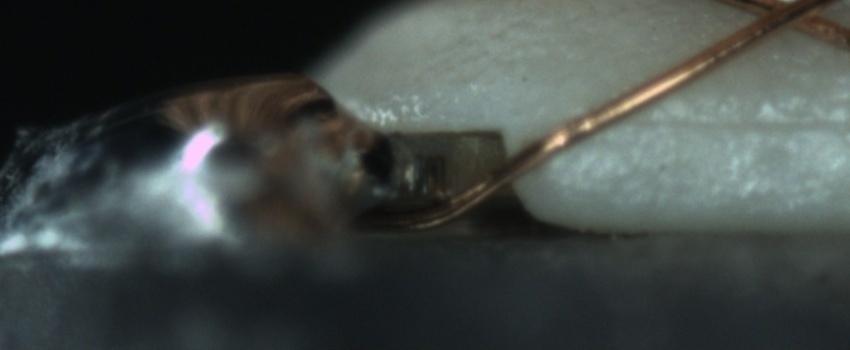CL: (748, 0, 835, 33)
DL: (617, 85, 845, 157)
